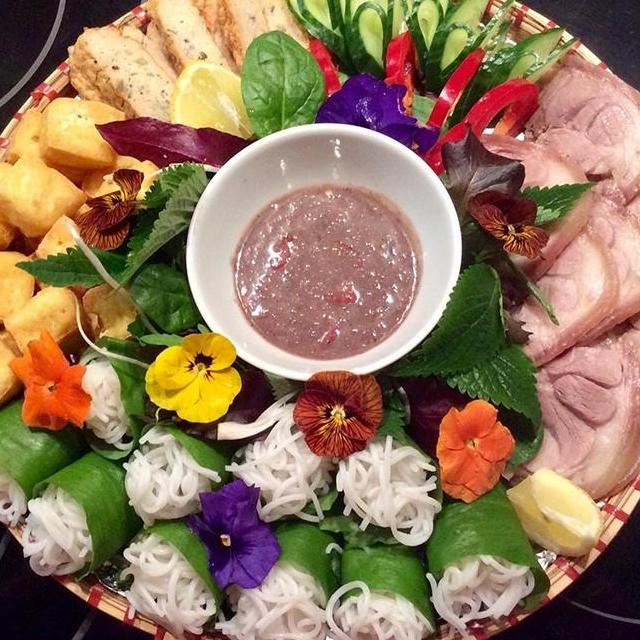bun: (215, 389, 339, 528), (108, 417, 227, 535), (109, 519, 225, 640), (329, 433, 446, 551), (209, 547, 339, 640), (420, 549, 537, 636), (11, 475, 93, 589), (65, 342, 136, 455), (322, 574, 436, 640), (0, 433, 37, 526)
bun dau: (0, 0, 640, 640)
cha com: (47, 0, 328, 131)
dau hu: (0, 89, 145, 431)
thit heo: (466, 117, 615, 317), (477, 48, 640, 220), (497, 326, 640, 506), (479, 216, 621, 376), (544, 179, 640, 354), (586, 160, 640, 400)
